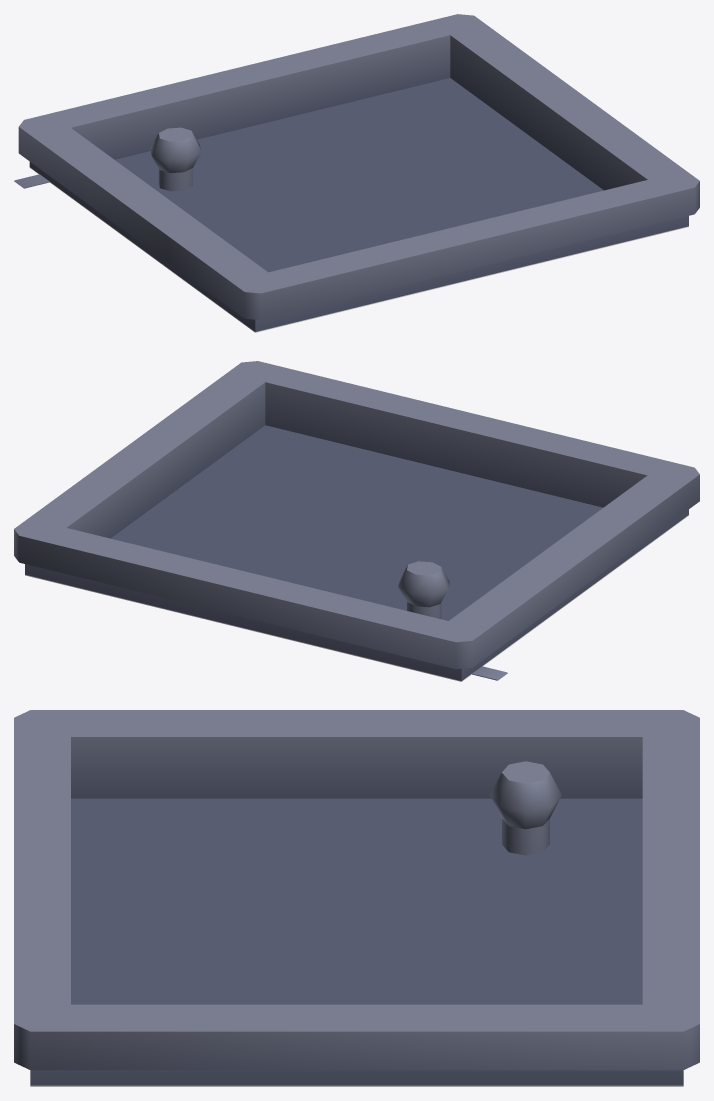
The model's file is commercial-g.glb.
3 views of the same model, one above another, from view 1: azimuth 30°, elevation 25°; view 2: azimuth 150°, elevation 25°; view 3: azimuth 270°, elevation 25° (orthographic). The views are drawn at different scales.
Visible parts, largest first — view 1: building-g; view 2: building-g; view 3: building-g.
Boxes of the visible parts, left/top/right/bottom form: building-g: left=14, top=14, right=699, bottom=332; building-g: left=14, top=361, right=699, bottom=681; building-g: left=14, top=710, right=699, bottom=1086.
Bounding box in the file's own units: 12.52 × 1.28 × 10.93.
Materials: 1 (1 with a texture image).
